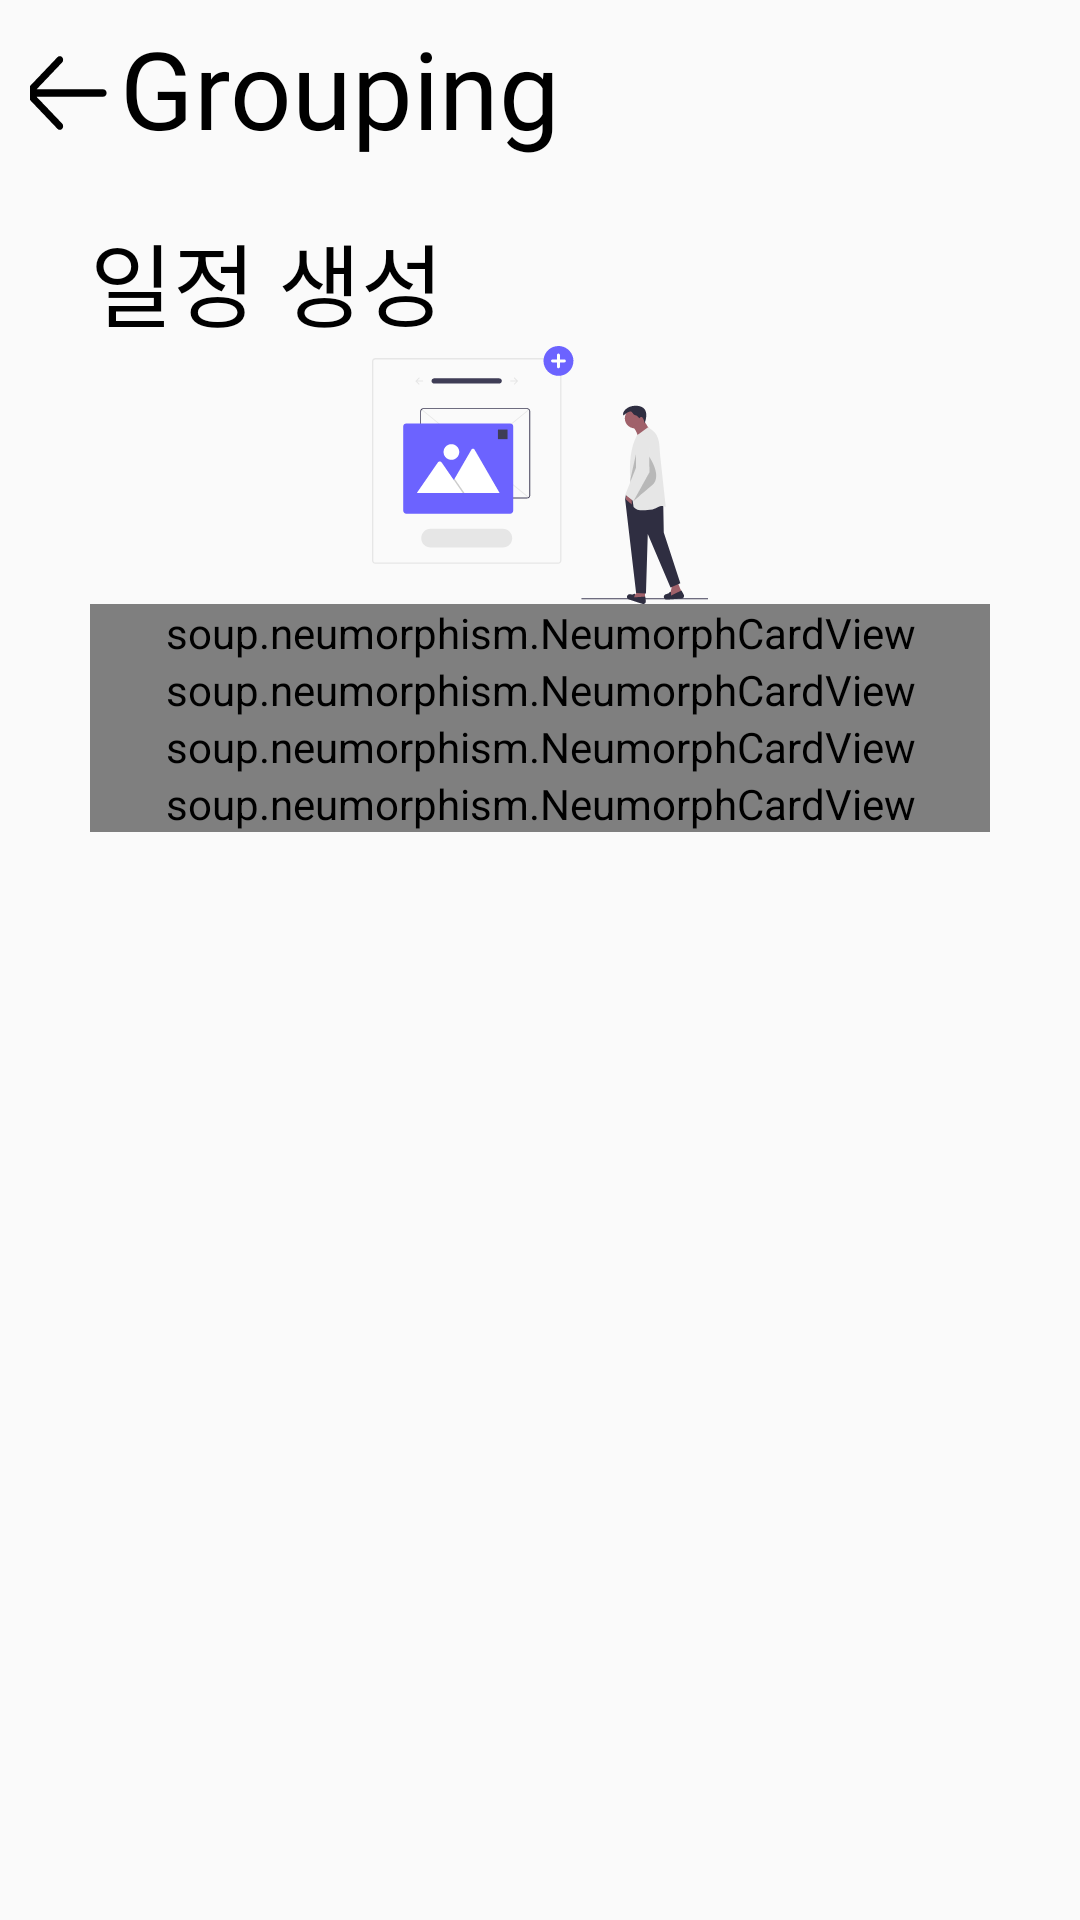

Icons on this 1080*1920 Android screen, each with its box as BBox(x1, y1, x2, y2):
back: BBox(30, 56, 107, 130)
